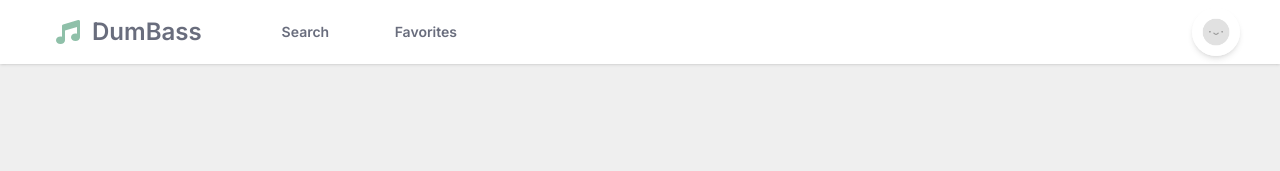
Test case: Navbar Component Interactions › toggles user dropdown visibility on user photo click
// Simulate a click on the user photo to toggle the dropdown
Click the picture with alt text "user photo". click: x=1216, y=32
box: x1=1192 y1=8 x2=1240 y2=56
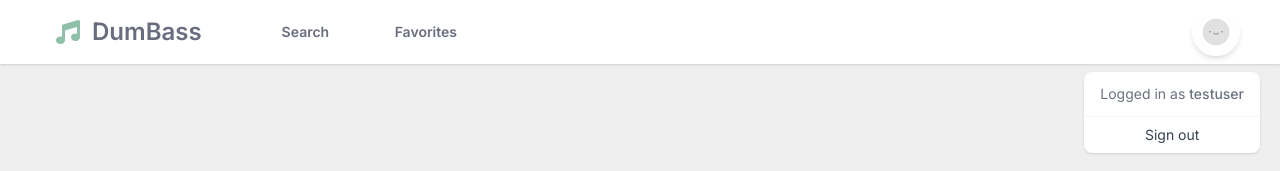
Expected: the button "Sign out" is shown, x1=1084 y1=117 x2=1260 y2=153
